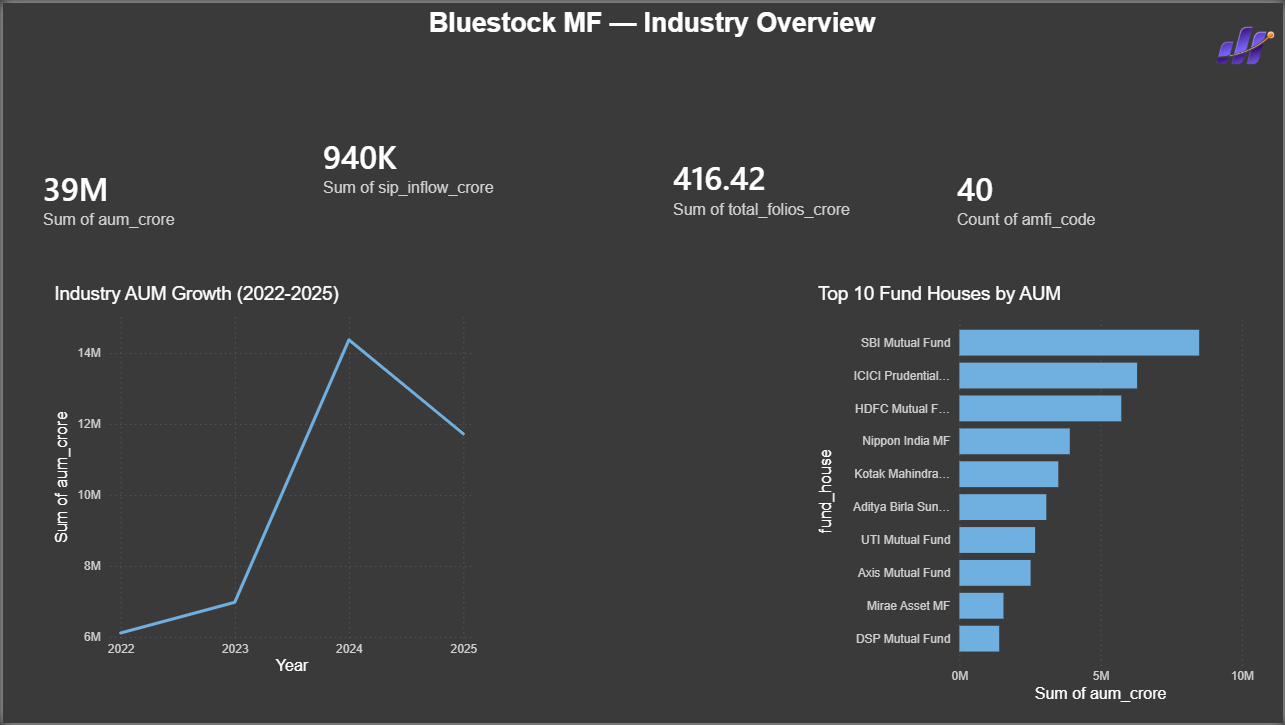

Layout of this report page (visuals, bound fields, positions):
{"tool":"powerbi","page":{"name":"Industry Overview","canvas":[1280,720],"ordinal":0},"visuals":[{"type":"cardVisual","fields":{"Data":["Sum(clean_aum.aum_crore)"]},"box":[10,108,280,172],"z":0},{"type":"cardVisual","fields":{"Data":["Sum(clean_sip_inflows.sip_inflow_crore)"]},"box":[290,44,280,236],"z":1000},{"type":"cardVisual","fields":{"Data":["Sum(clean_folio_count.total_folios_crore)"]},"box":[640,86,280,194],"z":2000},{"type":"cardVisual","fields":{"Data":["CountNonNull(clean_fund_master.amfi_code)"]},"box":[924,108,280,172],"z":3000},{"type":"lineChart","title":"Industry AUM Growth (2022-2025)","fields":{"Category":["clean_aum.date.Variation.Date Hierarchy.Year","clean_aum.date.Variation.Date Hierarchy.Quarter","clean_aum.date.Variation.Date Hierarchy.Month","clean_aum.date.Variation.Date Hierarchy.Day"],"Y":["Sum(clean_aum.aum_crore)"]},"box":[46.7,280,433.3,396.7],"z":4000},{"type":"clusteredBarChart","title":"Top 10 Fund Houses by AUM","fields":{"Category":["clean_aum.fund_house"],"Y":["Sum(clean_aum.aum_crore)"]},"box":[810,280,446,424],"z":5000},{"type":"image","box":[1204,0,76,86],"z":5001},{"type":"textbox","box":[234,0,830,68],"z":5002}]}

Visuals, with their boxes in screenshot pixels (x1, y1, x2, y2), scaled from the page's 1280x720 canvas onto the 1285x725 screenshot:
cardVisual - Sum(clean_aum.aum_crore): [left=10, top=109, right=291, bottom=282]
cardVisual - Sum(clean_sip_inflows.sip_inflow_crore): [left=291, top=44, right=572, bottom=282]
cardVisual - Sum(clean_folio_count.total_folios_crore): [left=642, top=87, right=924, bottom=282]
cardVisual - CountNonNull(clean_fund_master.amfi_code): [left=928, top=109, right=1209, bottom=282]
"Industry AUM Growth (2022-2025)" lineChart: [left=47, top=282, right=482, bottom=681]
"Top 10 Fund Houses by AUM" clusteredBarChart: [left=813, top=282, right=1261, bottom=709]
image: [left=1209, top=0, right=1284, bottom=87]
textbox: [left=235, top=0, right=1068, bottom=68]
